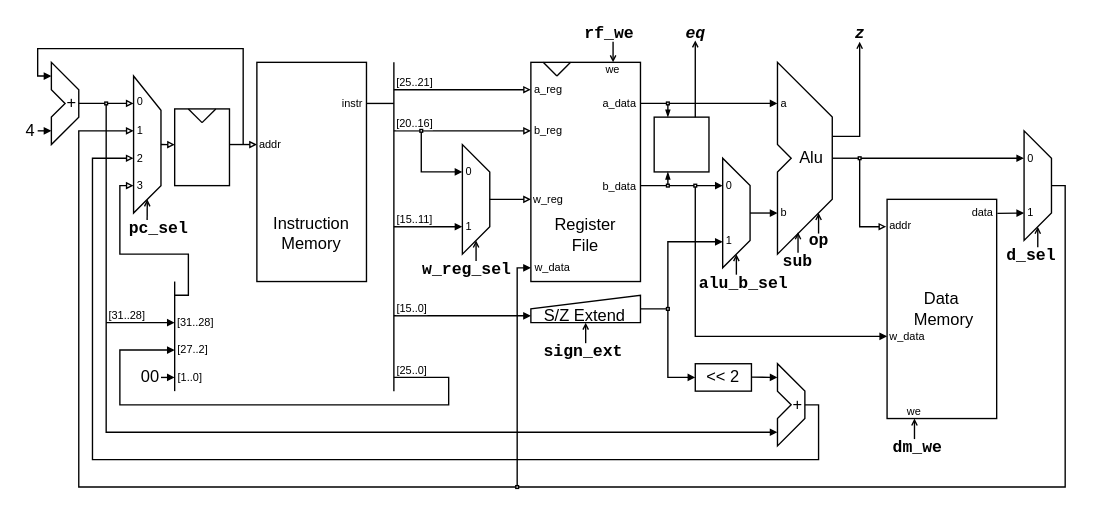
Image size: 1096x518. Some labels were removed from this diagram. The shapes that lost their labels are listed below. From the top down, each one's box as (x1, y1, x2, y2) in pixels, then its label:
(173, 108, 229, 186): PC
(653, 116, 709, 172): Branch Logic
